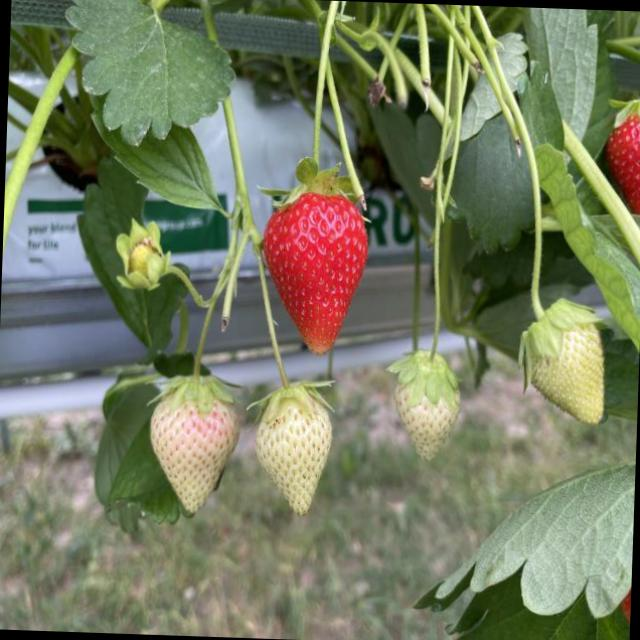stem: (151, 97, 251, 411), (520, 167, 594, 379), (276, 0, 348, 206), (256, 257, 330, 421), (389, 242, 458, 405), (607, 94, 640, 124)
strawberryNR: (151, 398, 235, 513), (255, 397, 329, 513), (532, 322, 602, 422), (393, 384, 458, 459)
strawberryR: (265, 195, 365, 352), (605, 113, 640, 214), (620, 582, 631, 623)
